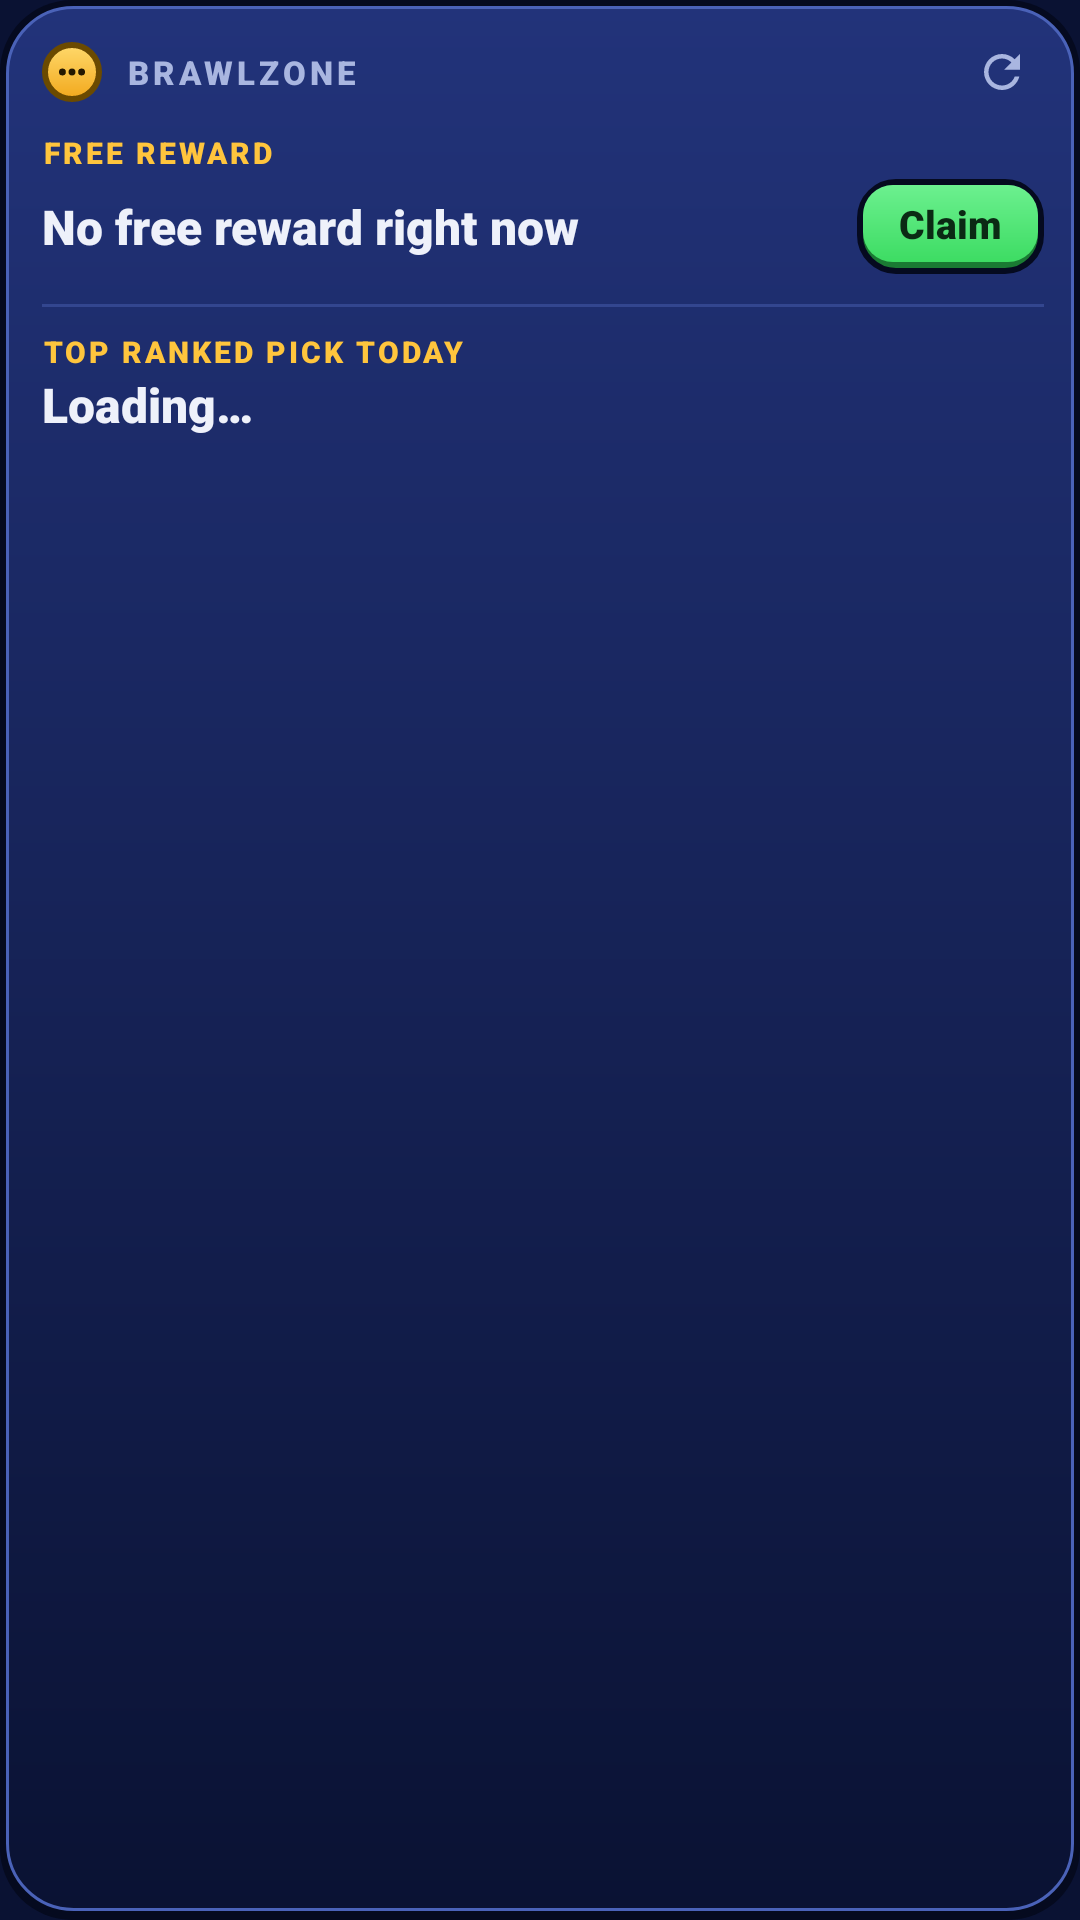

Point at icon controls on the screen. Image size 1080×1920, points as [x,y].
bubble glyph: [72,72]
refresh: [1002,72]
